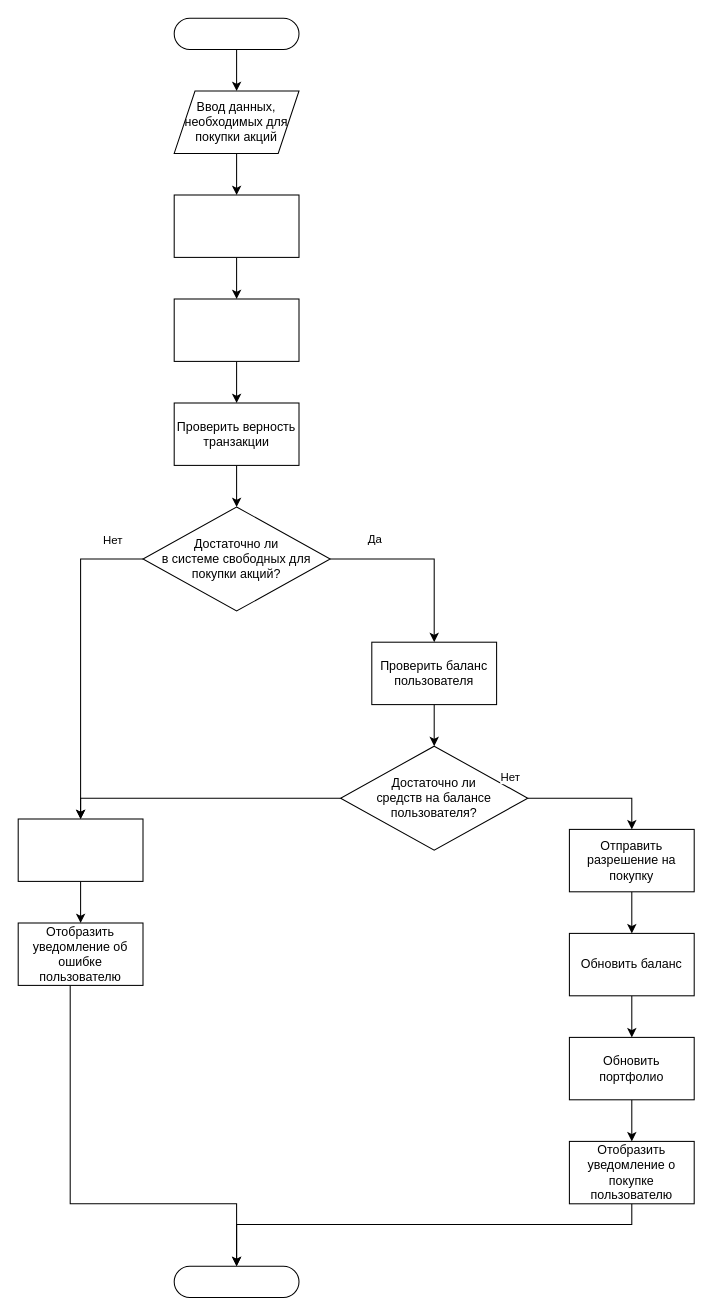
Image size: 712x1316. Some labels were removed from this diagram. Each missing label, with the centre of its shape:
"конец" belongs at point (236, 1281).
"начало" belongs at point (236, 33).
"Отправить отказ в покупке" belongs at point (80, 849).
"Отправка запроса на покупку акций" belongs at point (236, 225).
"Подключение к БД" belongs at point (236, 329).
